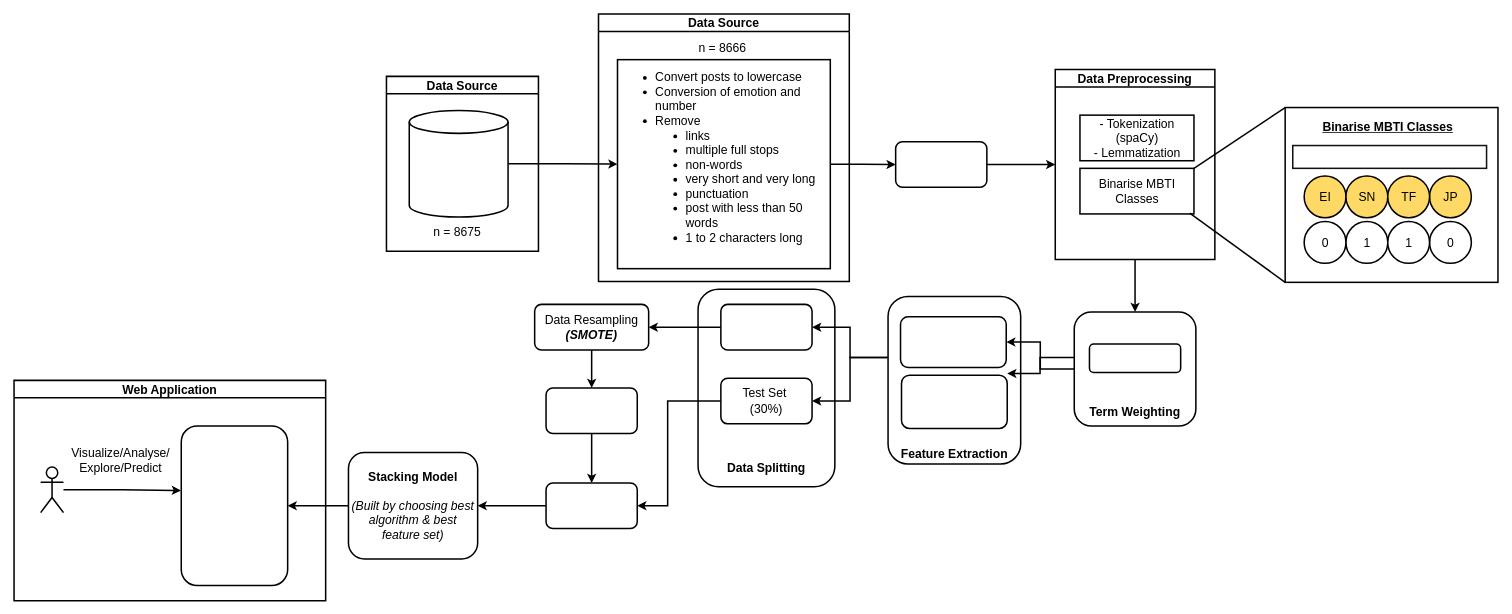
Image size: 1512x614. Some labels were removed from this diagram. Here are the shapes that lost their labels. From the top down, the centre of each, then its label:
At pixel 458 163: "Myers-Briggs Personality (MBTI) Type Dataset".
At pixel 941 164: "Exploratory Data Analysis".
At pixel 1389 156: "Personality : ISTP".
At pixel 766 326: "Training Set (70%)".
At pixel 953 342: "EMOTION FEATURE (NRC LEX)".
At pixel 1134 358: "TF-IDF".
At pixel 591 410: "Classification (11 Algorithms)".
At pixel 954 401: "SENTIMENT FEATURE ( NLTK VADER)".
At pixel 52 489: "User".
At pixel 234 505: "Frontend (HTML, CSS, and Javascript) Backend (Flask) Cloud Platform (Azure)".
At pixel 591 505: "Model Evaluation".
